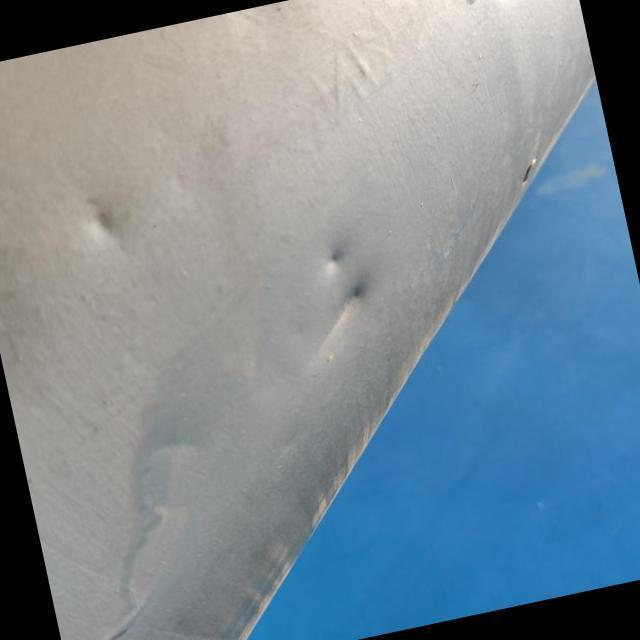dent: (296, 254, 376, 372), (73, 187, 139, 269), (312, 232, 356, 288)
